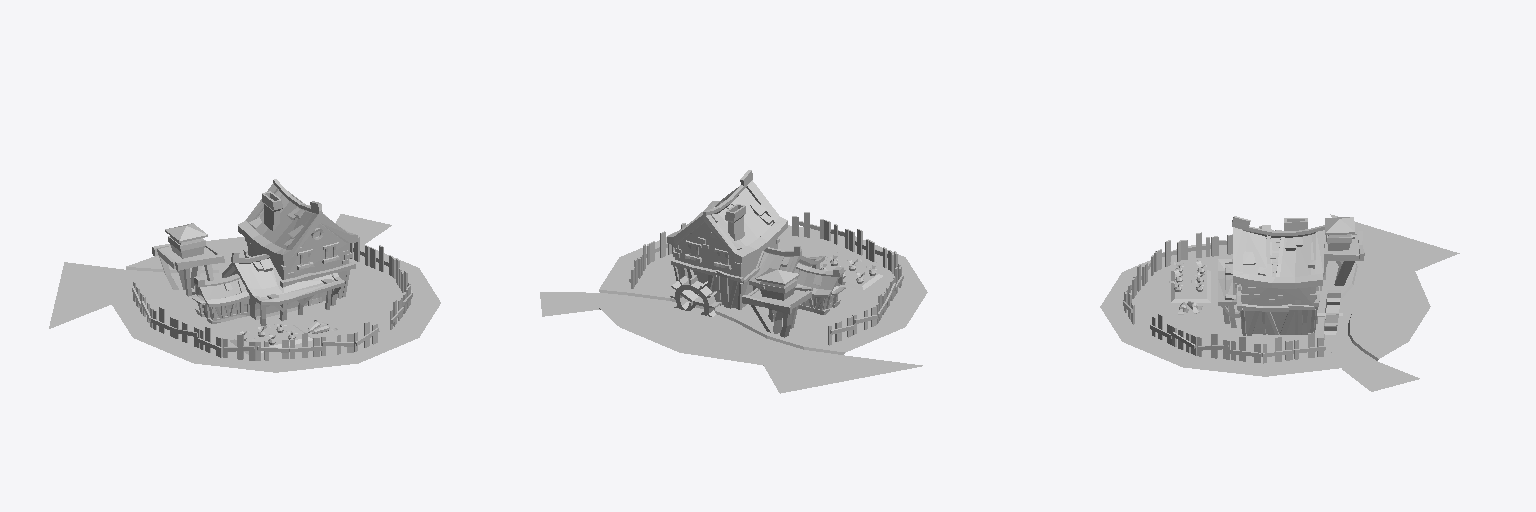
The model's file is Another CottageOBJ.obj.
The picture shows the model from 3 angles: view 1: azimuth 30°, elevation 25°; view 2: azimuth 150°, elevation 25°; view 3: azimuth 270°, elevation 25°; orthographic projection.
Visible parts, largest first — view 1: Object003_03_-_Default_0, Box001_02_-_Default_0; view 2: Object003_03_-_Default_0, Box001_02_-_Default_0; view 3: Object003_03_-_Default_0, Box001_02_-_Default_0.
Part boxes in pixels (x1,y1,x2,y2): Object003_03_-_Default_0: (49, 214, 440, 372); Box001_02_-_Default_0: (152, 179, 357, 325); Object003_03_-_Default_0: (540, 212, 927, 393); Box001_02_-_Default_0: (667, 170, 845, 337); Object003_03_-_Default_0: (1100, 214, 1459, 391); Box001_02_-_Default_0: (1218, 216, 1364, 335).
Size of the model in its own units: 1624 by 505 by 1386.